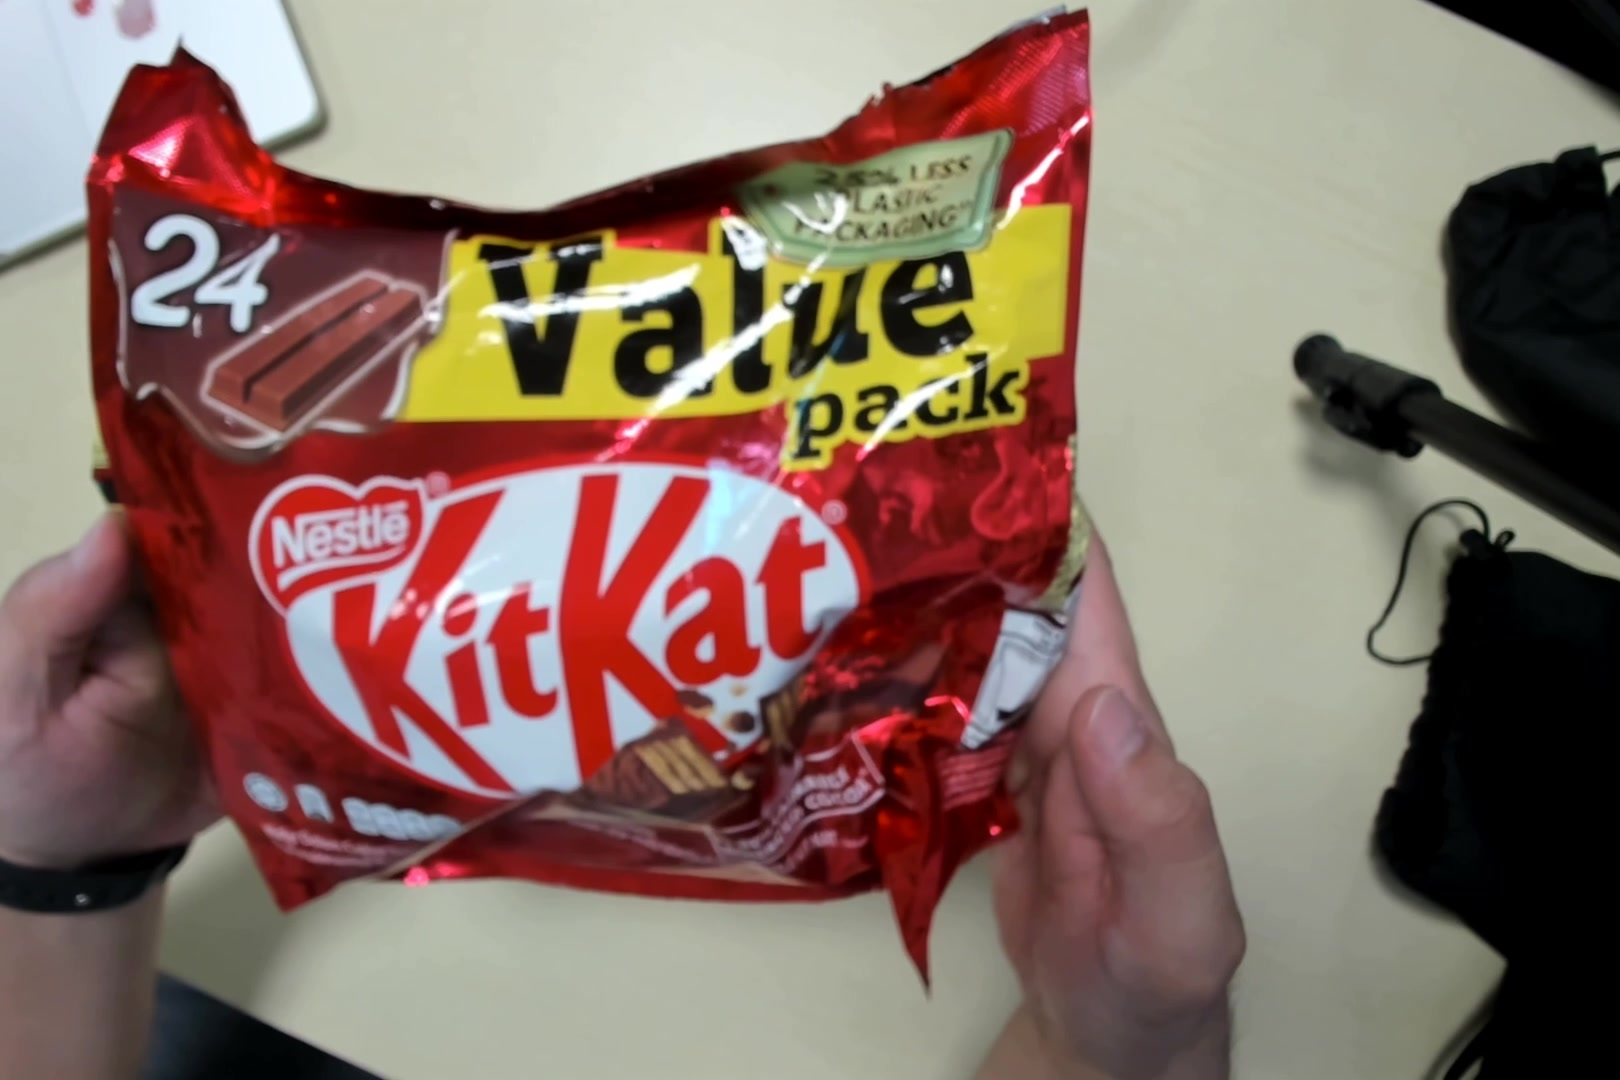SweetsChocolatesOthers_400-499g_Halal_NonHealthy: (99, 75, 1094, 938)
